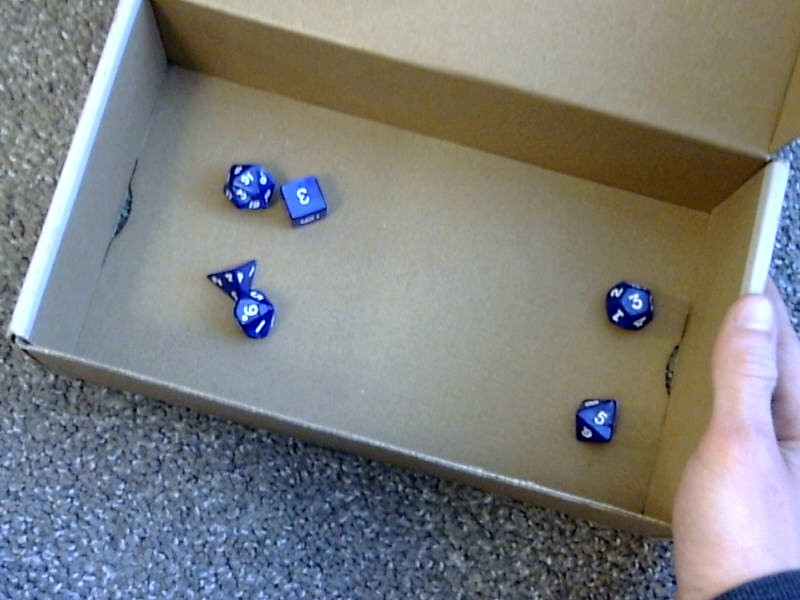d10 9: (231, 289, 283, 340)
d12 3: (603, 271, 655, 332)
d20 16: (221, 150, 275, 214)
d4 4: (204, 242, 265, 302)
d6 3: (278, 168, 339, 228)
d8 5: (567, 387, 621, 447)
